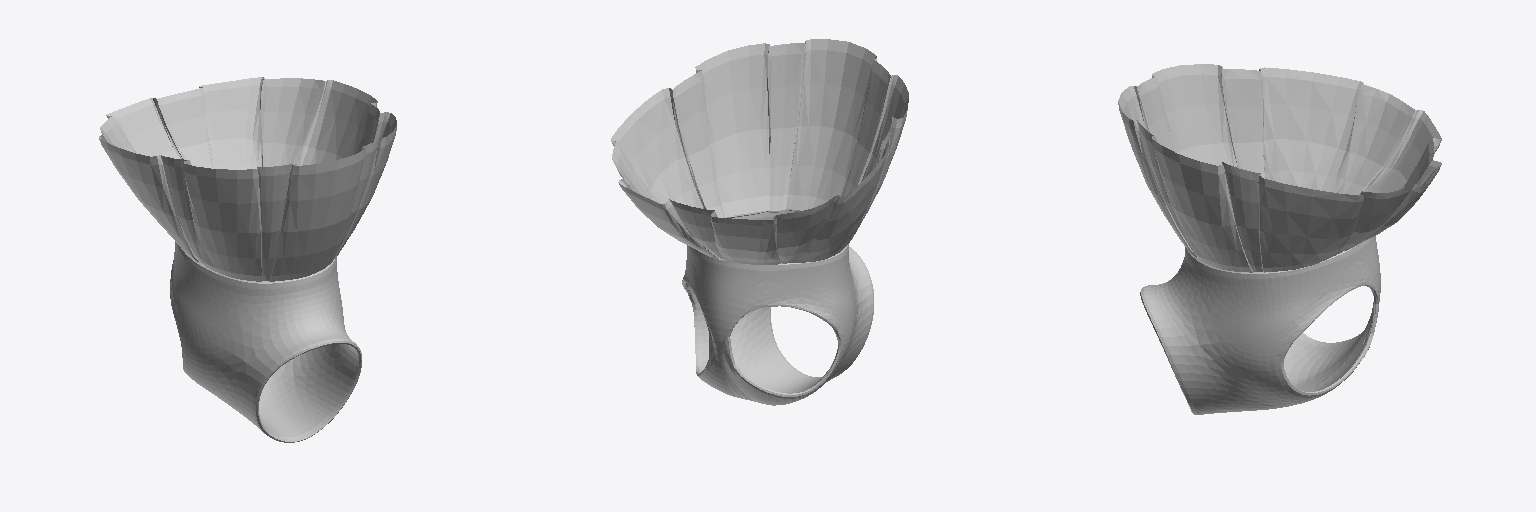
Rendered from cheerfix.obj.
3 renders of one model, left to right at view 1: azimuth 30°, elevation 25°; view 2: azimuth 150°, elevation 25°; view 3: azimuth 270°, elevation 25°, orthographic.
Visible parts, largest first — view 1: model.cheer_outfit.smd.mesh_0; view 2: model.cheer_outfit.smd.mesh_0; view 3: model.cheer_outfit.smd.mesh_0.
Boxes of the visible parts, box(x1,y1,x2,y2) form: model.cheer_outfit.smd.mesh_0: box(99, 77, 396, 442); model.cheer_outfit.smd.mesh_0: box(611, 39, 908, 405); model.cheer_outfit.smd.mesh_0: box(1118, 64, 1441, 414).
Size of the model in its own units: 16.94 by 20.9 by 19.82.